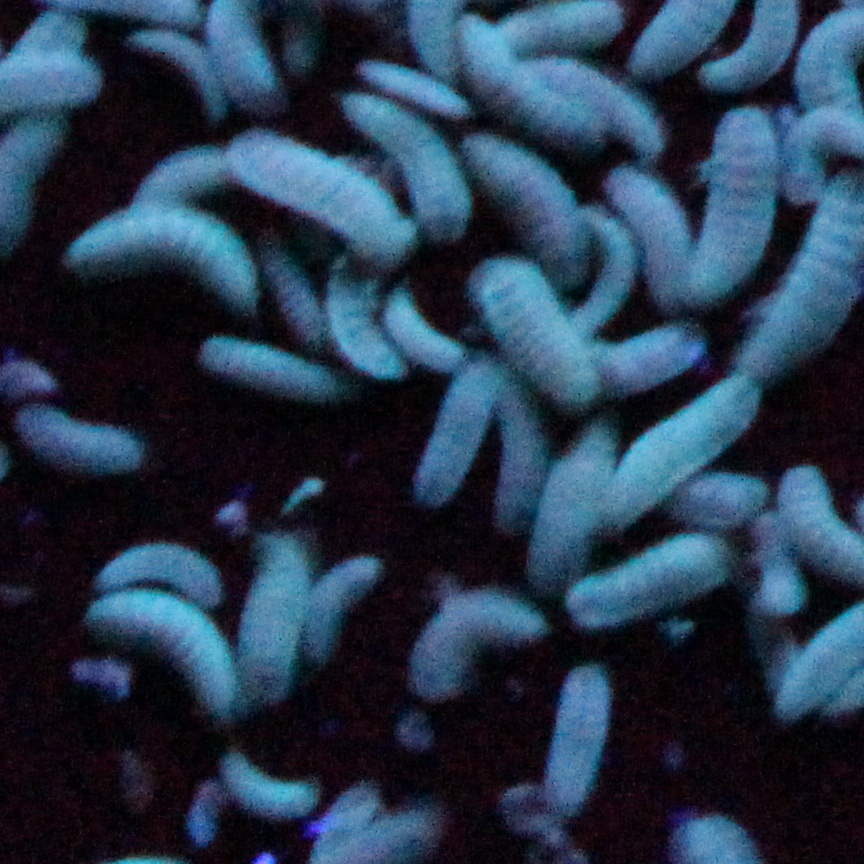larve: (748, 192, 864, 367), (69, 209, 257, 309), (236, 134, 385, 258), (353, 90, 467, 239), (101, 604, 231, 711), (410, 590, 539, 692), (632, 381, 748, 488), (699, 118, 773, 278), (467, 30, 574, 137), (410, 364, 492, 499), (483, 144, 574, 264), (587, 541, 724, 618), (548, 669, 618, 814), (501, 279, 581, 400), (202, 334, 346, 399), (543, 439, 610, 567), (22, 402, 136, 469), (560, 62, 648, 148), (252, 543, 299, 704), (794, 102, 864, 206), (624, 172, 685, 290), (262, 236, 324, 341), (136, 27, 220, 104), (95, 543, 217, 595), (608, 318, 704, 383), (336, 286, 399, 379), (313, 555, 374, 648), (367, 60, 462, 113), (506, 369, 536, 530), (395, 302, 462, 369), (139, 148, 225, 197), (227, 764, 315, 811), (748, 535, 799, 607), (15, 7, 83, 58), (681, 476, 766, 516), (595, 216, 627, 314)
